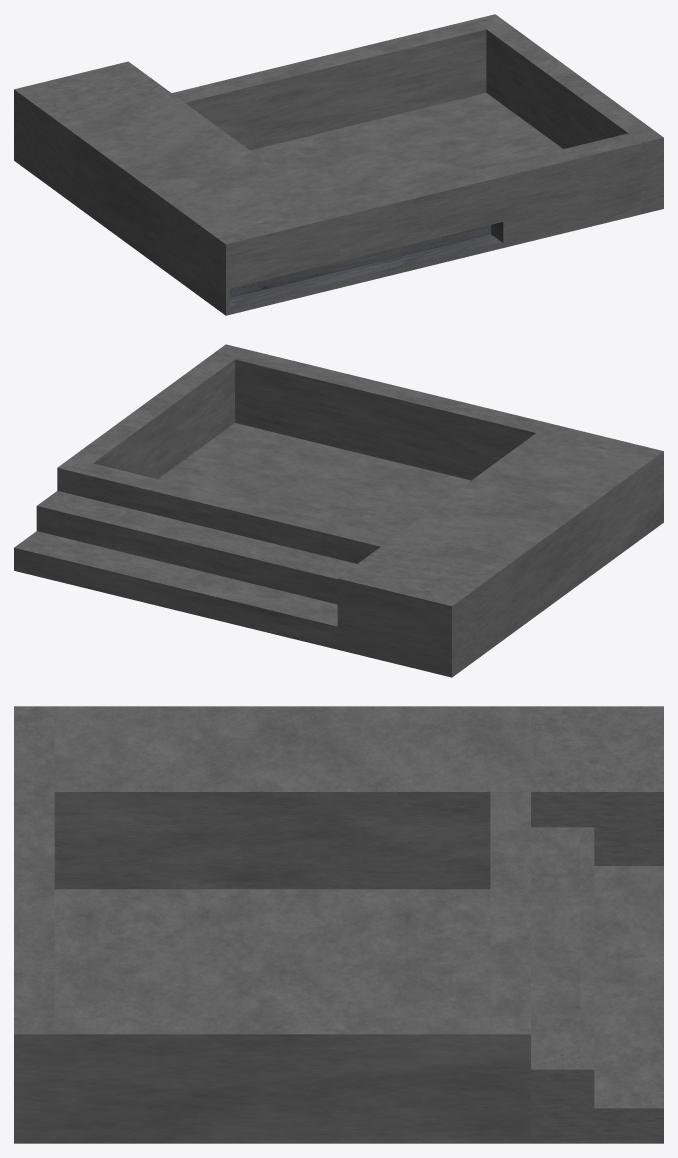
Rendered from piscina.fbx.
3 views of the same model, one above another, from view 1: azimuth 30°, elevation 25°; view 2: azimuth 150°, elevation 25°; view 3: azimuth 270°, elevation 25° (orthographic). The views are drawn at different scales.
Parts seen in each view (by area): view 1: Cube, Cube.001; view 2: Cube; view 3: Cube.
Part boxes in pixels (left/top/right/bottom): Cube: left=14, top=14, right=663, bottom=315; Cube.001: left=229, top=222, right=503, bottom=309; Cube: left=14, top=344, right=663, bottom=677; Cube: left=14, top=706, right=663, bottom=1143.
Size of the model in its own units: 450 by 70 by 377.
